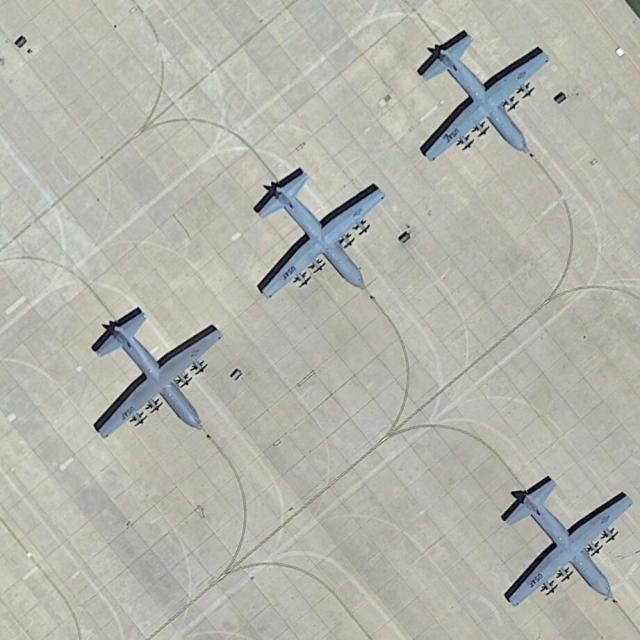fighter jet: (408, 24, 554, 156), (250, 163, 388, 292), (94, 310, 226, 444), (501, 481, 634, 608)
